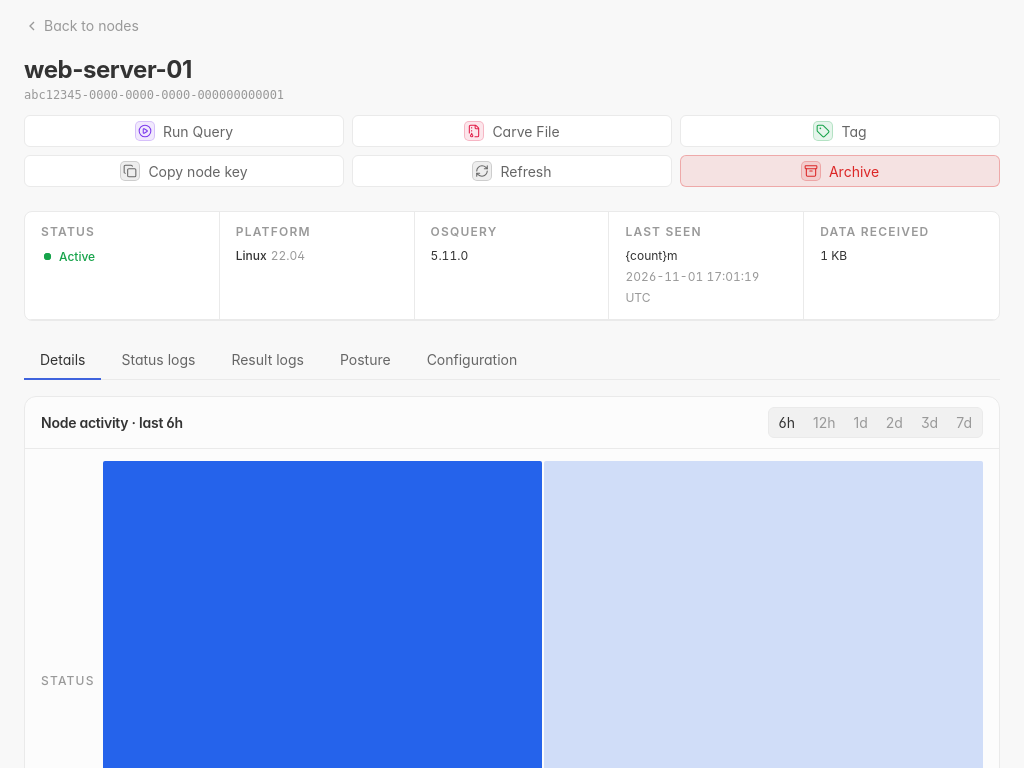
Test: NodeDetailPage › recomputes the risk score live when a control is unchecked
Expected: the heading "web-server-01" is shown, top-left (24, 55), bottom-right (192, 84)
Click the tab "Posture".
click(365, 360)  # box top-left (324, 341), bottom-right (407, 380)
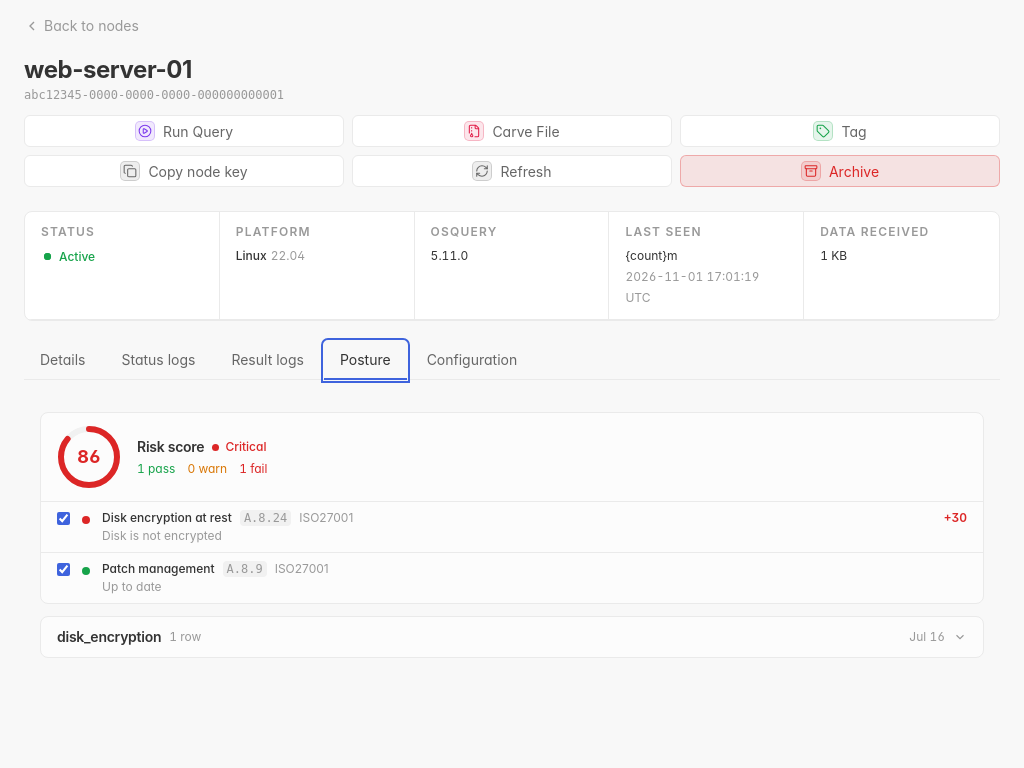
Now the text "86" is shown, box top-left (77, 446), bottom-right (101, 467)
Now the text "Critical" is shown, box top-left (225, 439), bottom-right (266, 455)
Click the checkbox labelled "Disk encryption at rest".
click(64, 518)  # box top-left (57, 512), bottom-right (70, 525)
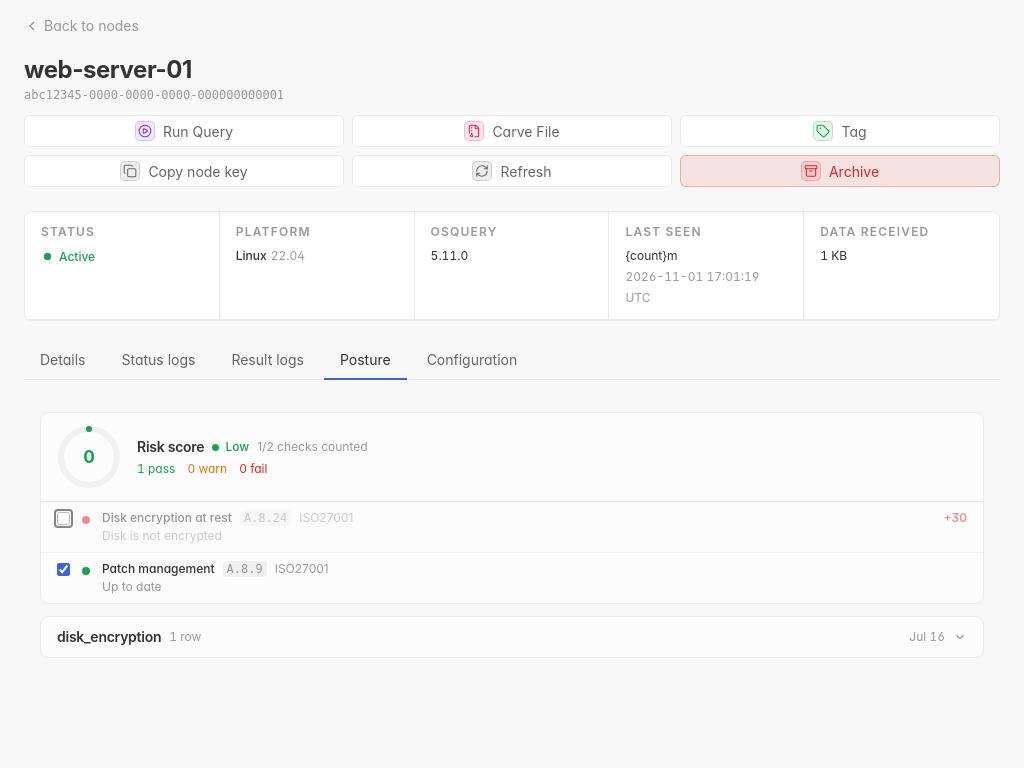
Expected: the text "0" is shown, top-left (83, 446), bottom-right (95, 467)
Now the text "Low" is shown, box top-left (225, 439), bottom-right (249, 455)
Now the text "1/2 checks counted" is shown, box top-left (257, 439), bottom-right (368, 455)
// Re-checking it restores the original score.
Click the checkbox labelled "Disk encryption at rest".
click(64, 518)  # box top-left (57, 512), bottom-right (70, 525)
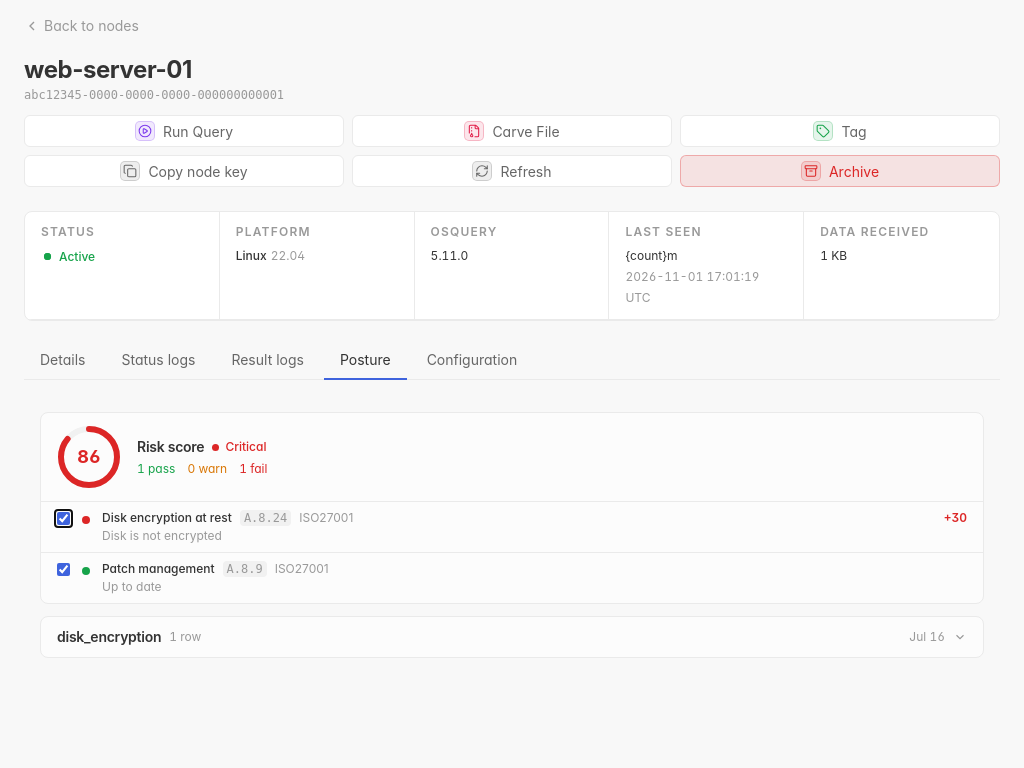
Now the text "86" is shown, box top-left (77, 446), bottom-right (101, 467)
Now the text "1/2 checks counted" is gone
